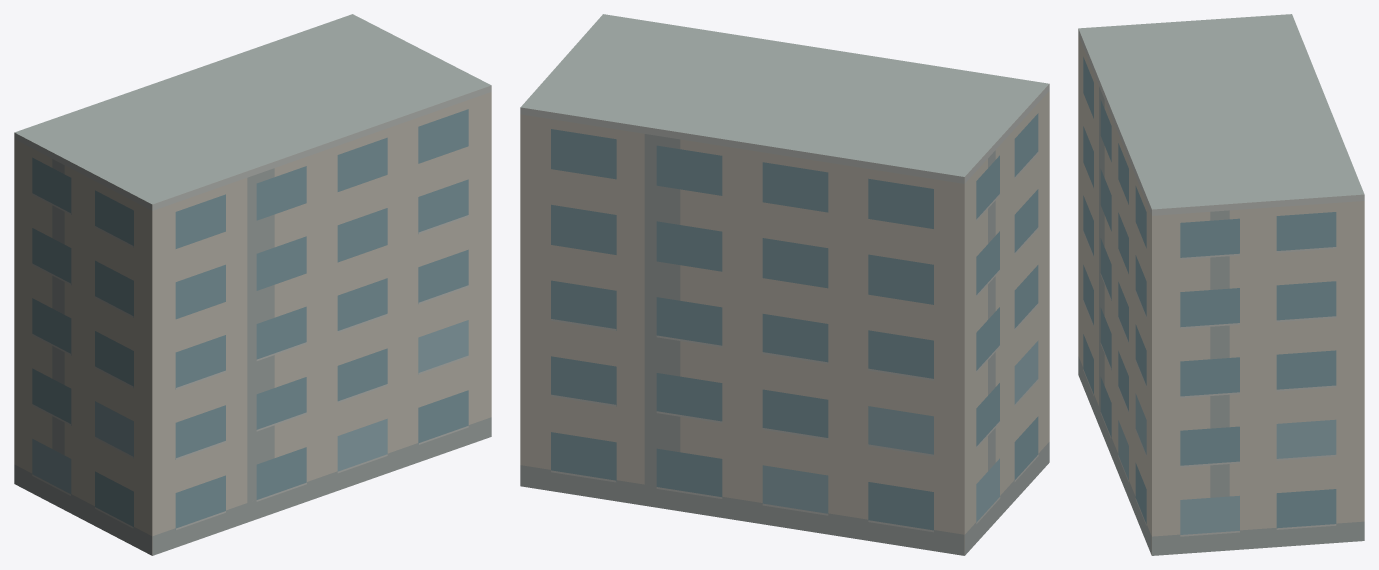
Rendered from survey-upis-32889379.glb.
3 views of the same model, side by side, from view 1: azimuth 30°, elevation 25°; view 2: azimuth 150°, elevation 25°; view 3: azimuth 270°, elevation 25° (orthographic). The views are drawn at different scales.
Visible parts, largest first — view 1: survey-upis-32889379.tmp; view 2: survey-upis-32889379.tmp; view 3: survey-upis-32889379.tmp.
Part boxes in pixels (x1,y1,x2,y2): survey-upis-32889379.tmp: [14, 14, 491, 555]; survey-upis-32889379.tmp: [520, 14, 1049, 555]; survey-upis-32889379.tmp: [1078, 14, 1364, 555].
Bounding box in the file's own units: 15.99 × 13.2 × 9.9.
